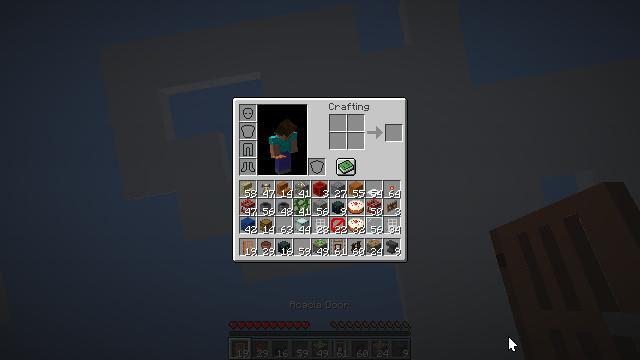cursor: (508, 336, 518, 352)
